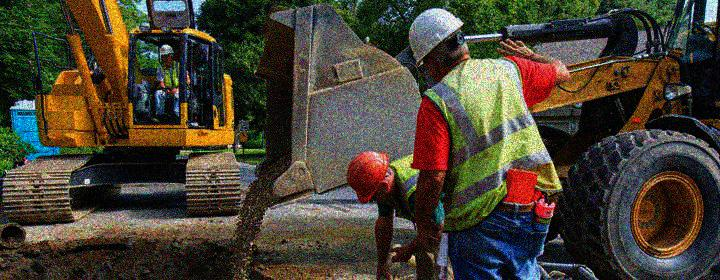helmet: (403, 7, 471, 83), (344, 150, 400, 206), (159, 43, 175, 64)
